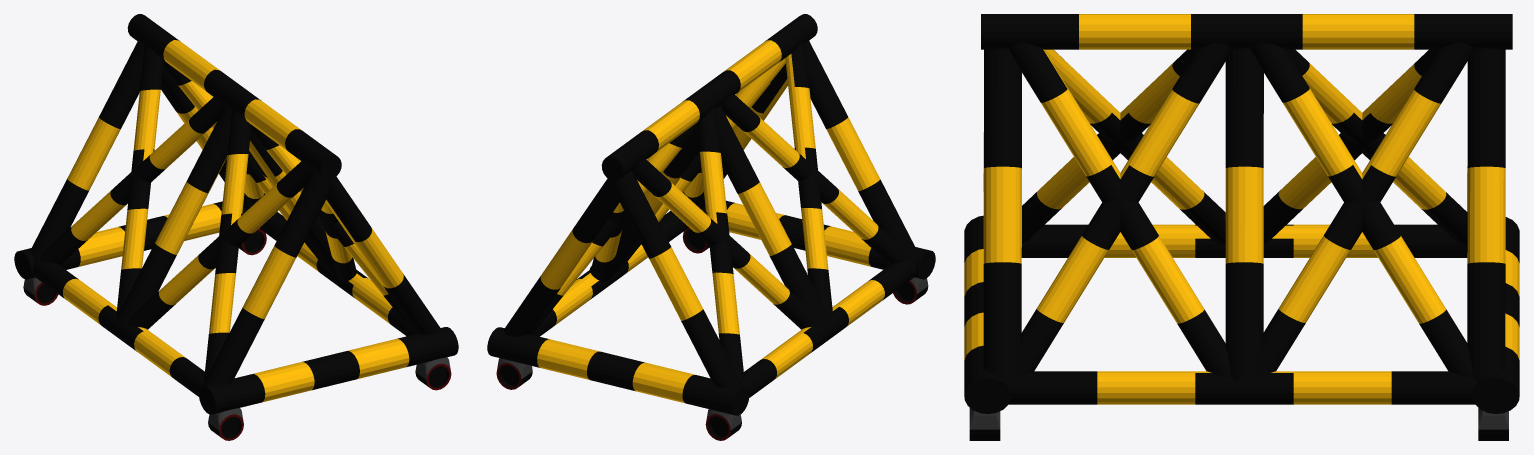
The model's file is Barricade.FBX.
3 renders of one model, left to right at view 1: azimuth 30°, elevation 25°; view 2: azimuth 150°, elevation 25°; view 3: azimuth 270°, elevation 25°, orthographic. The views are drawn at different scales.
Visible parts, largest first — view 1: Cylinder001; view 2: Cylinder001; view 3: Cylinder001.
Part boxes in pixels (left/top/right/bottom): Cylinder001: left=14, top=14, right=458, bottom=440; Cylinder001: left=487, top=14, right=935, bottom=440; Cylinder001: left=964, top=14, right=1519, bottom=440.
Bounding box in the file's own units: 579 × 833 × 586.
